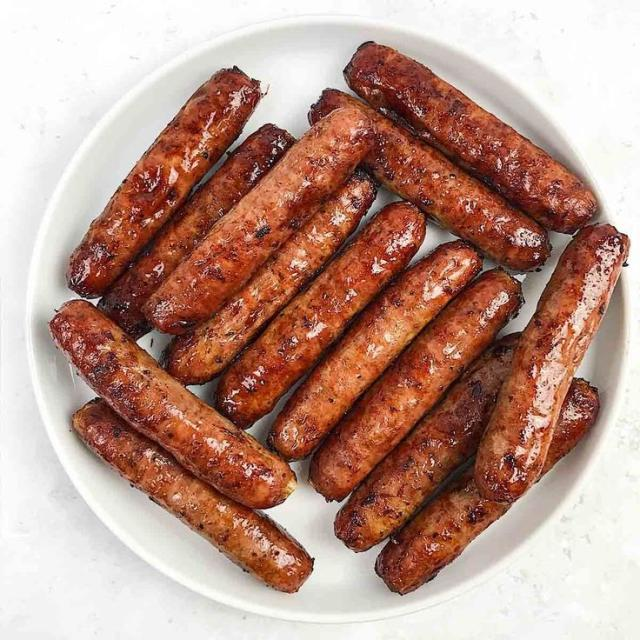sausage: (144, 107, 373, 333), (50, 300, 295, 507), (309, 269, 522, 500), (345, 42, 596, 233), (217, 203, 425, 427), (73, 400, 313, 593), (269, 241, 481, 459), (163, 171, 376, 384), (67, 68, 261, 297), (309, 90, 550, 270), (475, 225, 629, 501), (99, 124, 294, 339), (334, 334, 519, 551), (376, 469, 511, 594)
